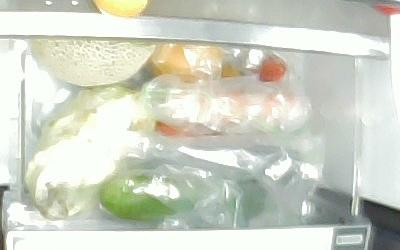cabbage: (23, 85, 151, 220)
carrot_vinyl: (157, 91, 302, 137)
melon: (27, 37, 156, 86)
pear_vinyl: (148, 41, 224, 80)
zucchini_vinyl: (97, 171, 269, 221)
